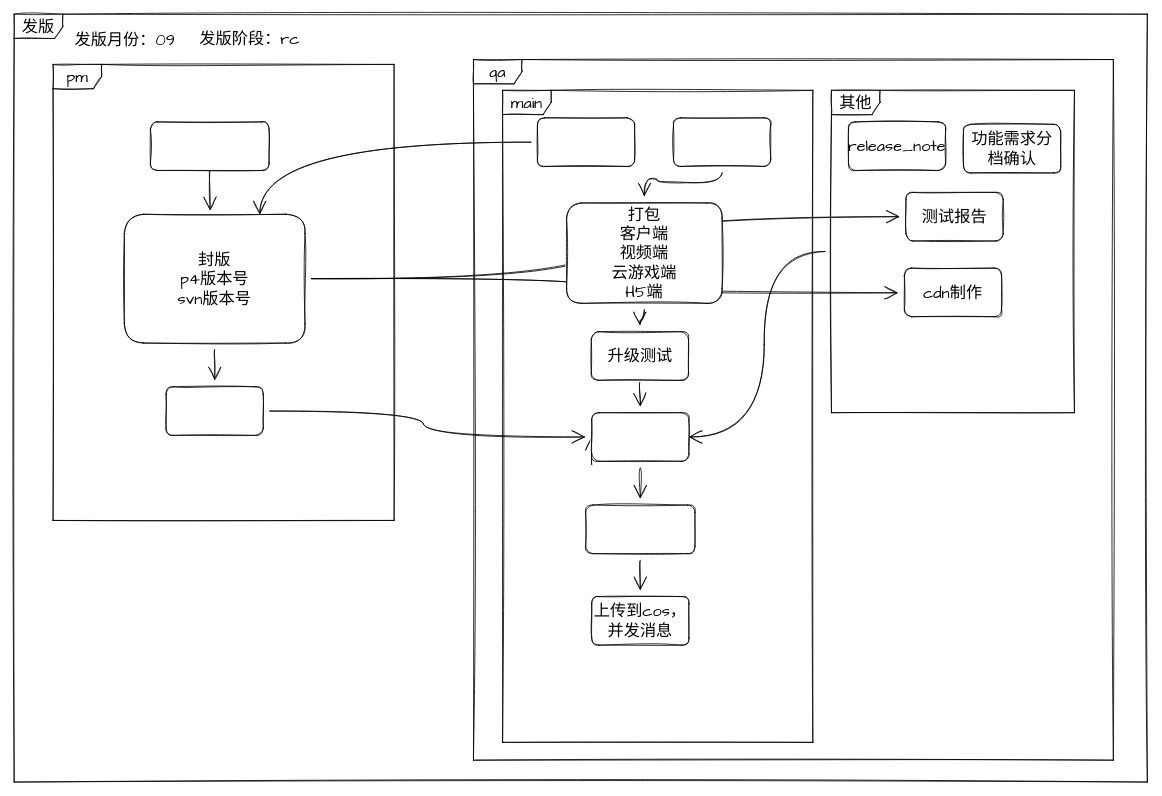
Some shapes in this 1162 by 796 pixel diagram are drawn without their labels. The centre of each missing label's shape, as x and y in pixels:
修改版本号: (x=586, y=141)
刷uri: (x=722, y=141)
反向部署测试: (x=640, y=529)
服务器打包: (x=640, y=436)
服务器配置: (x=214, y=410)
美术查错确认: (x=209, y=146)
